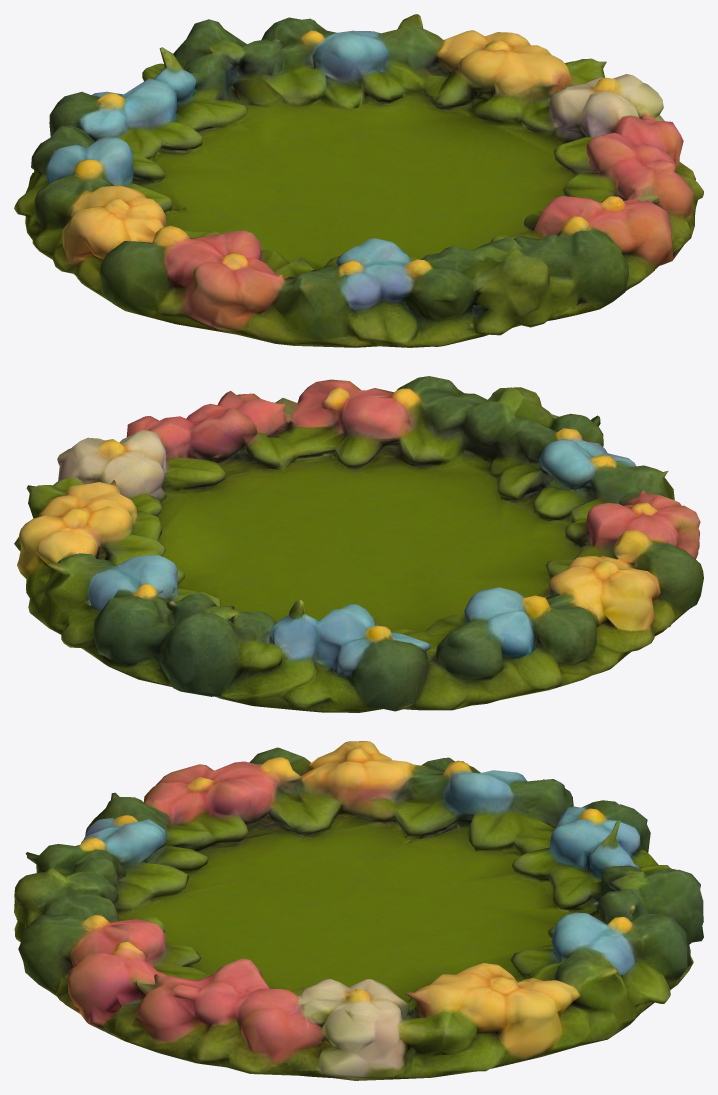
The model's file is cluster-flowerbed-ring.glb.
3 views of the same model, one above another, from view 1: azimuth 30°, elevation 25°; view 2: azimuth 150°, elevation 25°; view 3: azimuth 270°, elevation 25° (orthographic).
Visible parts, largest first — view 1: Mesh_0; view 2: Mesh_0; view 3: Mesh_0.
Boxes of the visible parts, x1=… form: Mesh_0: x1=14, y1=14, x2=703, y2=347; Mesh_0: x1=14, y1=376, x2=703, y2=712; Mesh_0: x1=14, y1=741, x2=703, y2=1080.
Bounding box in the file's own units: 2 × 0.293 × 1.99.
Materials: 1 (1 with a texture image).
